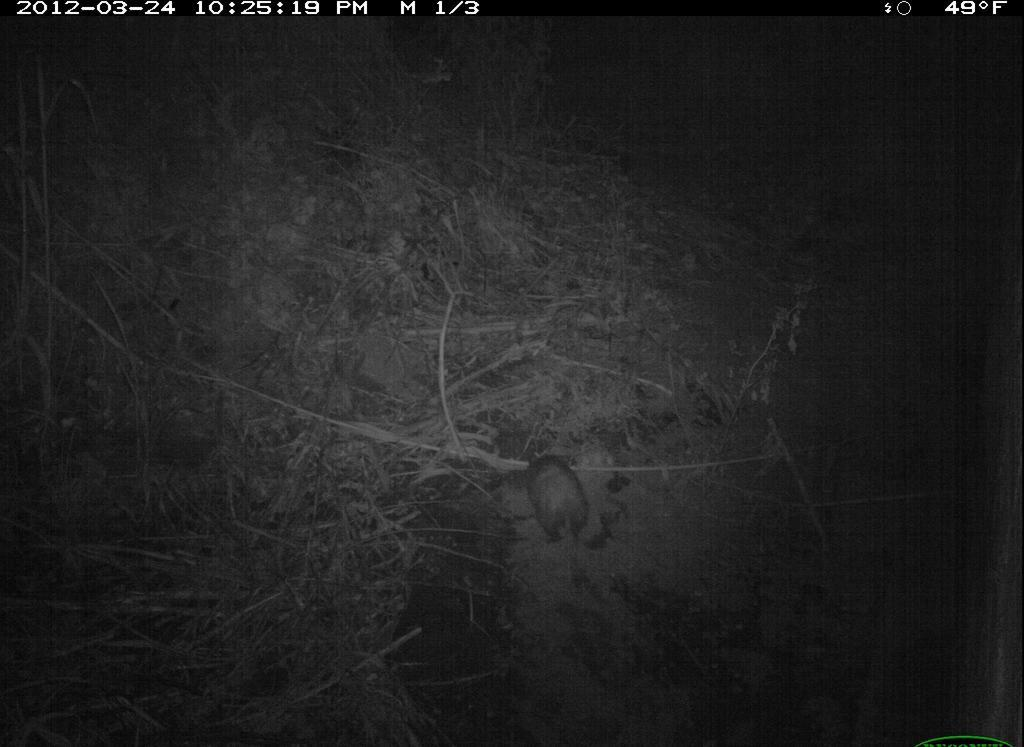opossum: (491, 438, 603, 564)
